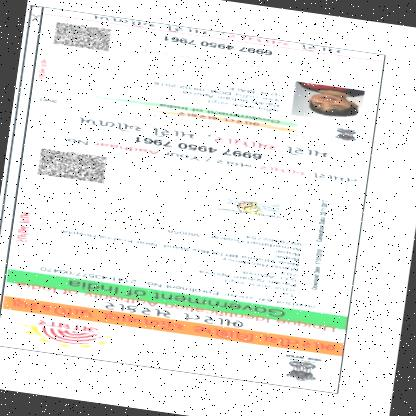aadhaar_card: (0, 0, 391, 401)
